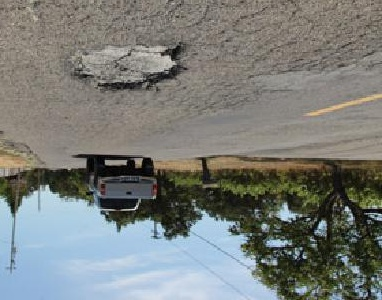pothole: (65, 40, 186, 94)
